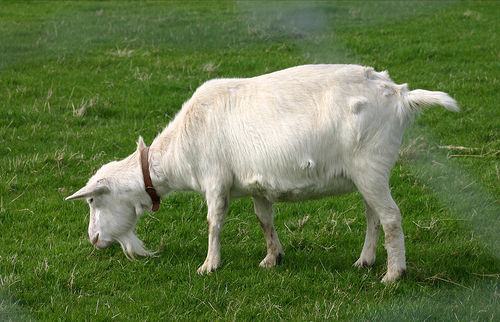goat: (65, 62, 461, 287)
